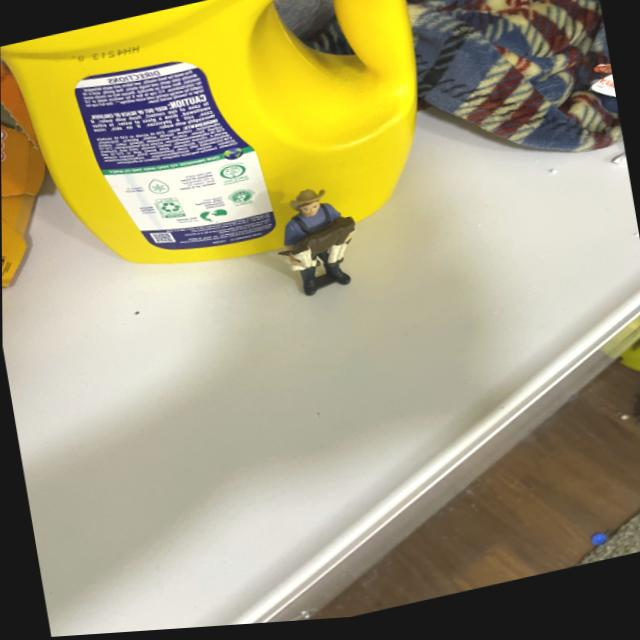cow: (278, 213, 373, 293)
person: (258, 179, 341, 253)
